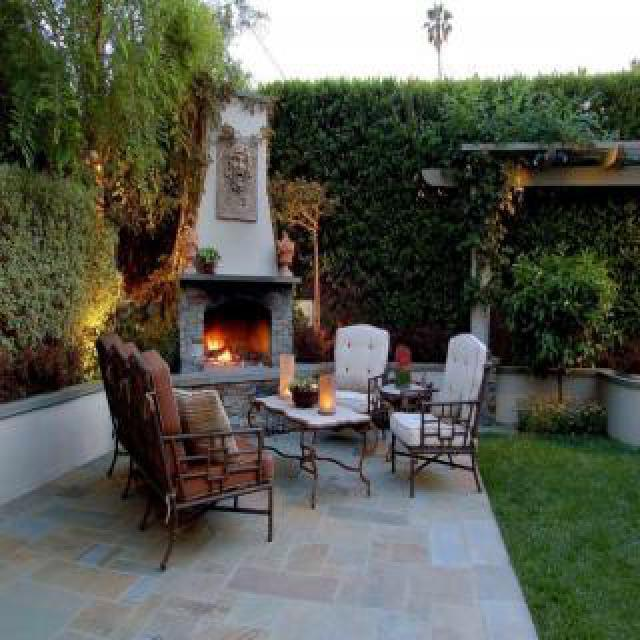Fire: (200, 314, 234, 366)
